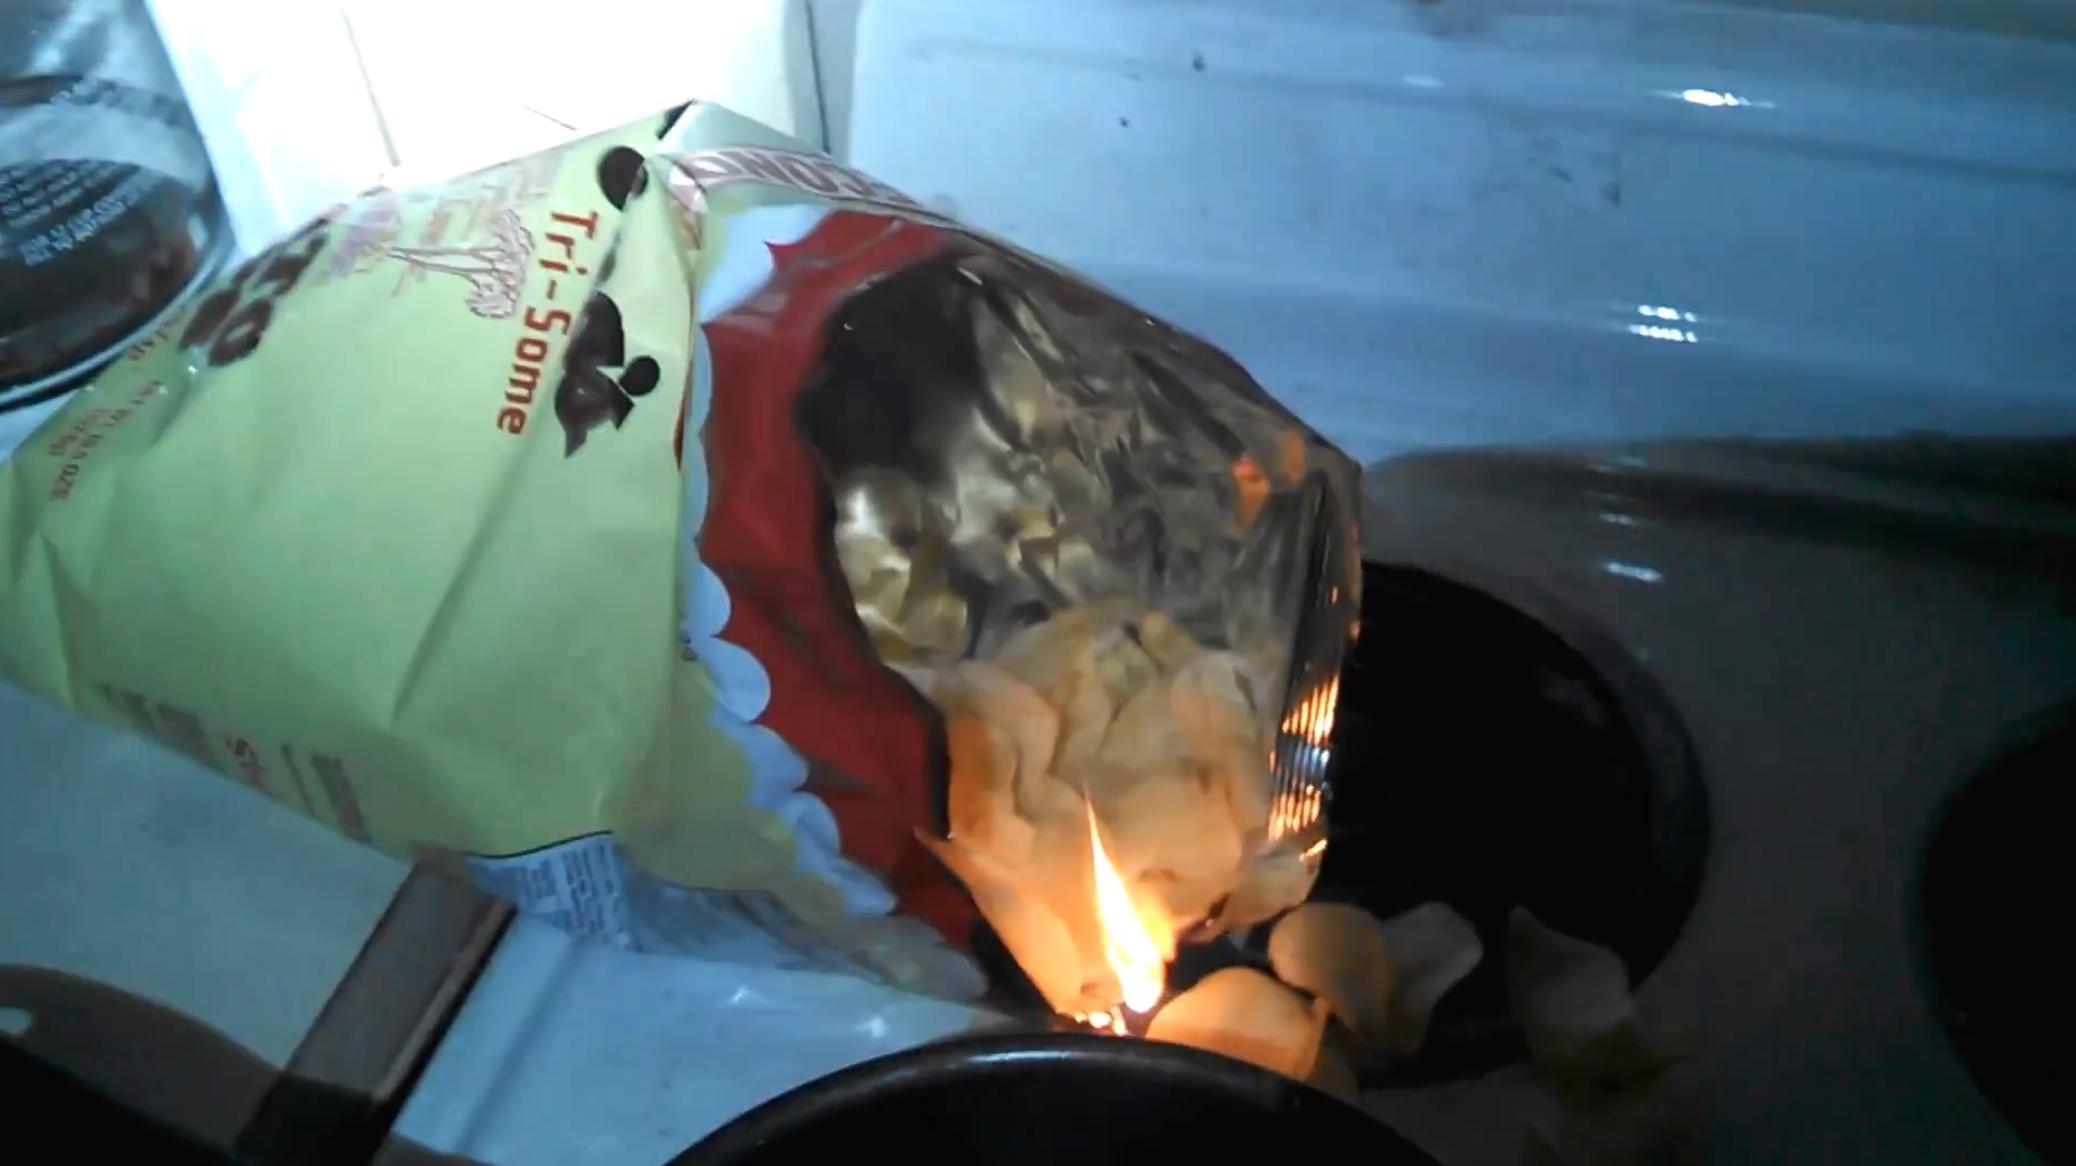fire: (1069, 807, 1182, 1031), (1275, 661, 1345, 741)
